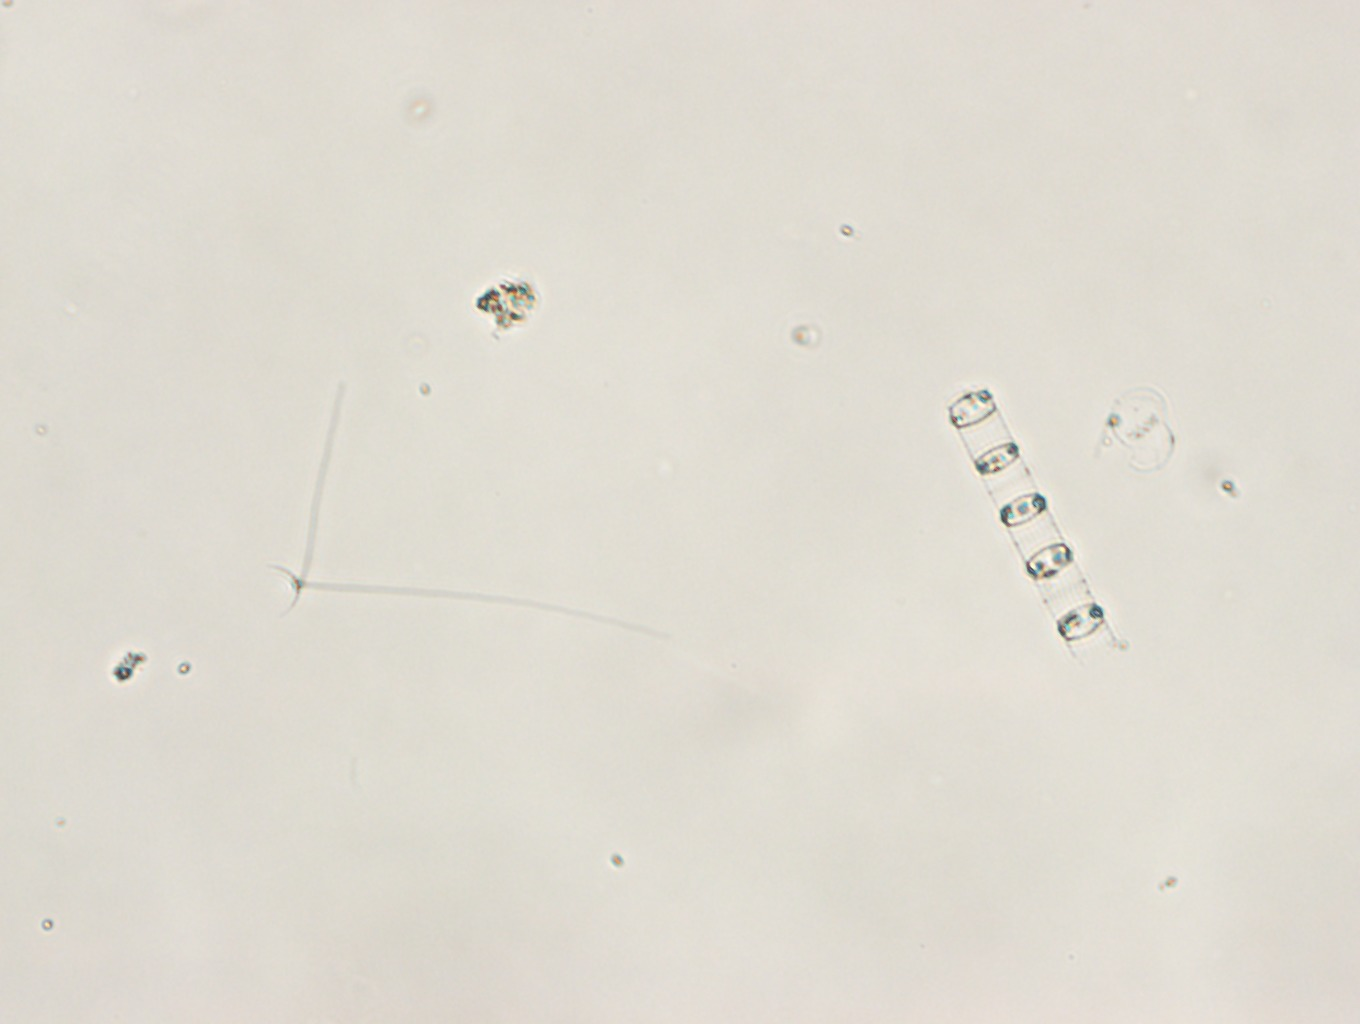skeletonema: (946, 390, 1114, 657)
